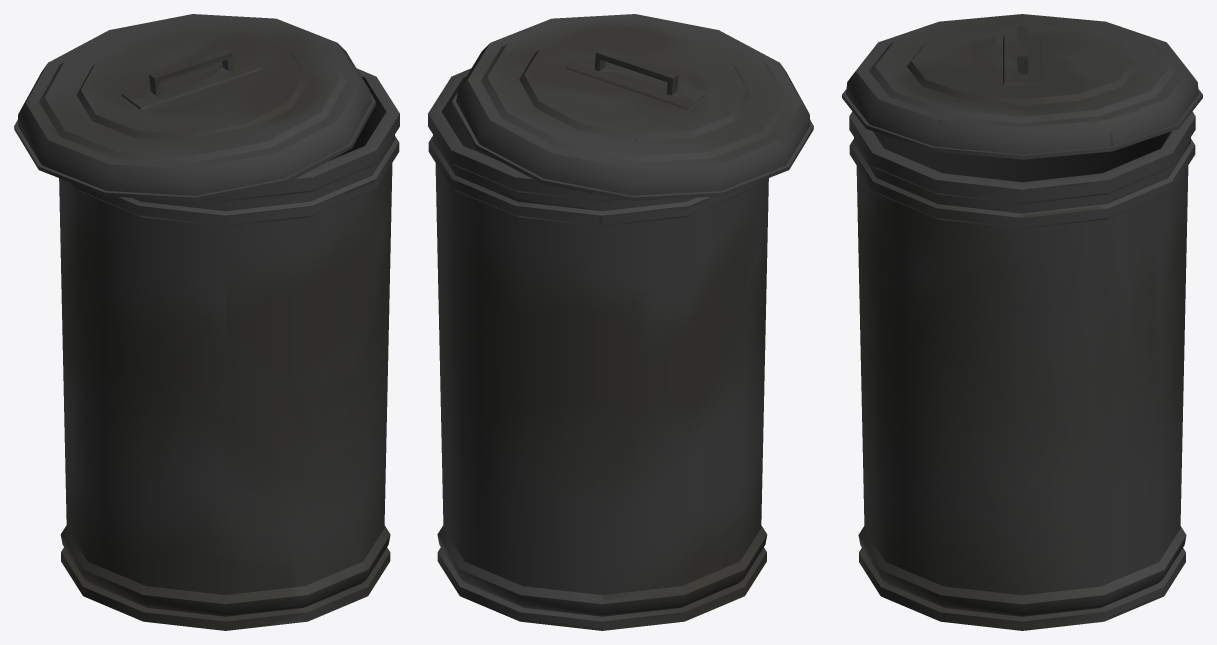
The model's file is Trashcan_Large.glb.
The picture shows the model from 3 angles, left to right: view 1: azimuth 30°, elevation 25°; view 2: azimuth 150°, elevation 25°; view 3: azimuth 270°, elevation 25°; orthographic projection.
Visible parts, largest first — view 1: Trashcan_Large; view 2: Trashcan_Large; view 3: Trashcan_Large.
Boxes of the visible parts, <box> form: Trashcan_Large: <box>14,14,399,630</box>; Trashcan_Large: <box>428,14,813,630</box>; Trashcan_Large: <box>842,14,1202,630</box>.
Bounding box in the file's own units: 1.32 × 1.9 × 1.22.
2 materials, 1 textured.
